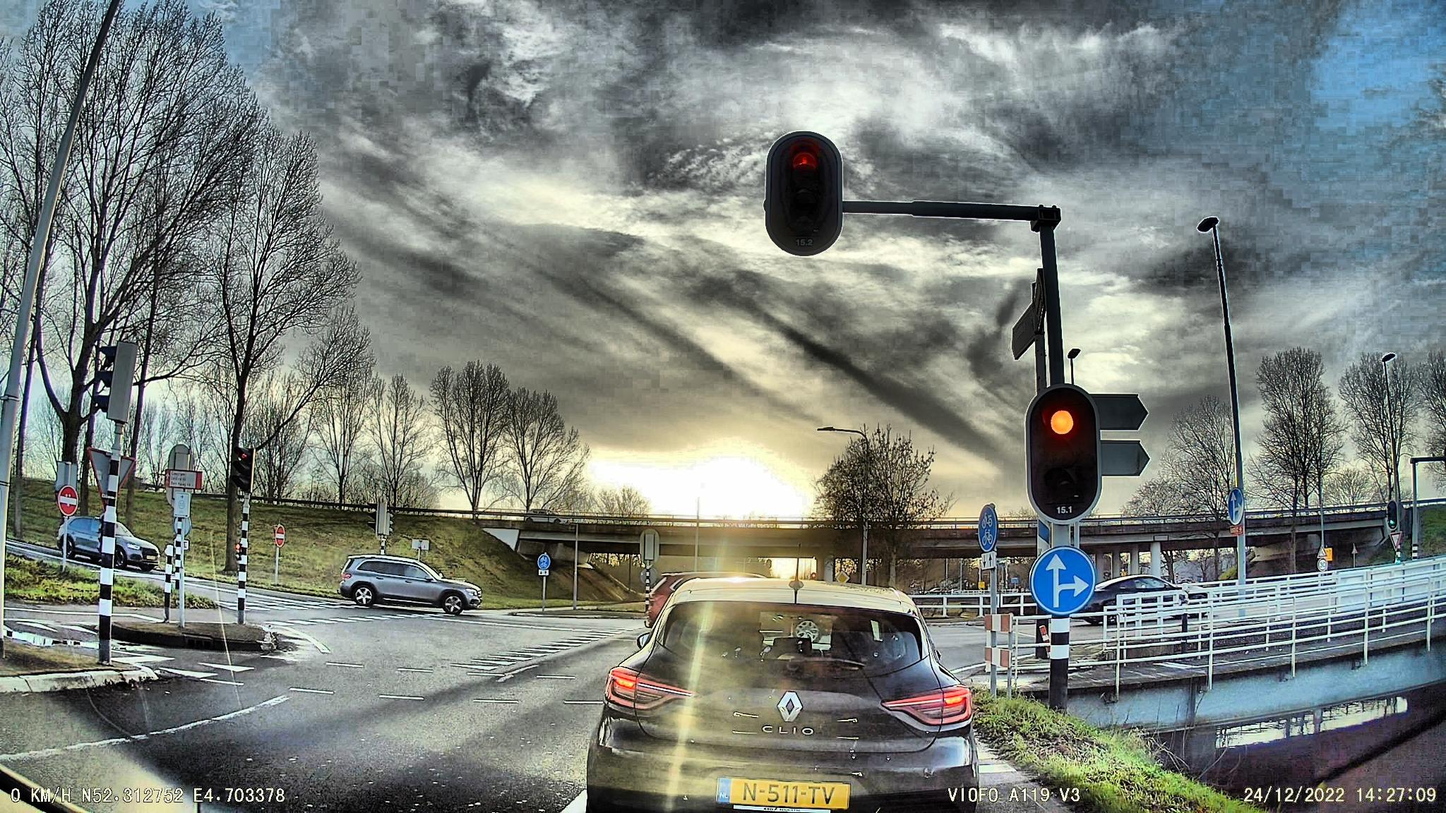Roads: (0, 595, 643, 813)
